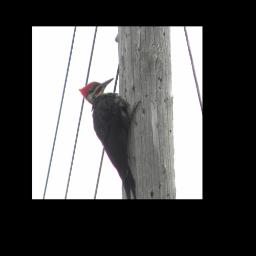Woodpecker: (77, 76, 142, 199)
